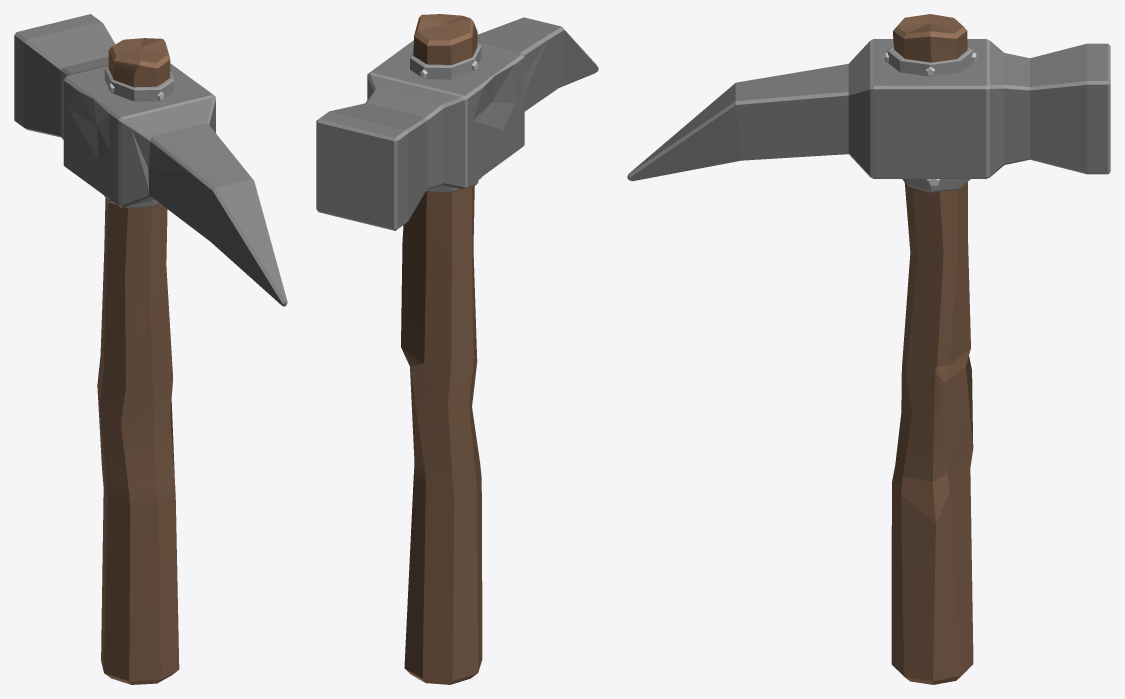
The model's file is Hammer4.fbx.
3 renders of one model, left to right at view 1: azimuth 30°, elevation 25°; view 2: azimuth 150°, elevation 25°; view 3: azimuth 270°, elevation 25°, orthographic. The views are drawn at different scales.
Visible parts, largest first — view 1: Hammer4; view 2: Hammer4; view 3: Hammer4.
Boxes of the visible parts, x1=… form: Hammer4: x1=14, y1=14, x2=287, y2=684; Hammer4: x1=316, y1=14, x2=598, y2=684; Hammer4: x1=627, y1=14, x2=1110, y2=684.
Bounding box in the file's own units: 9.23 × 57.03 × 38.39.
